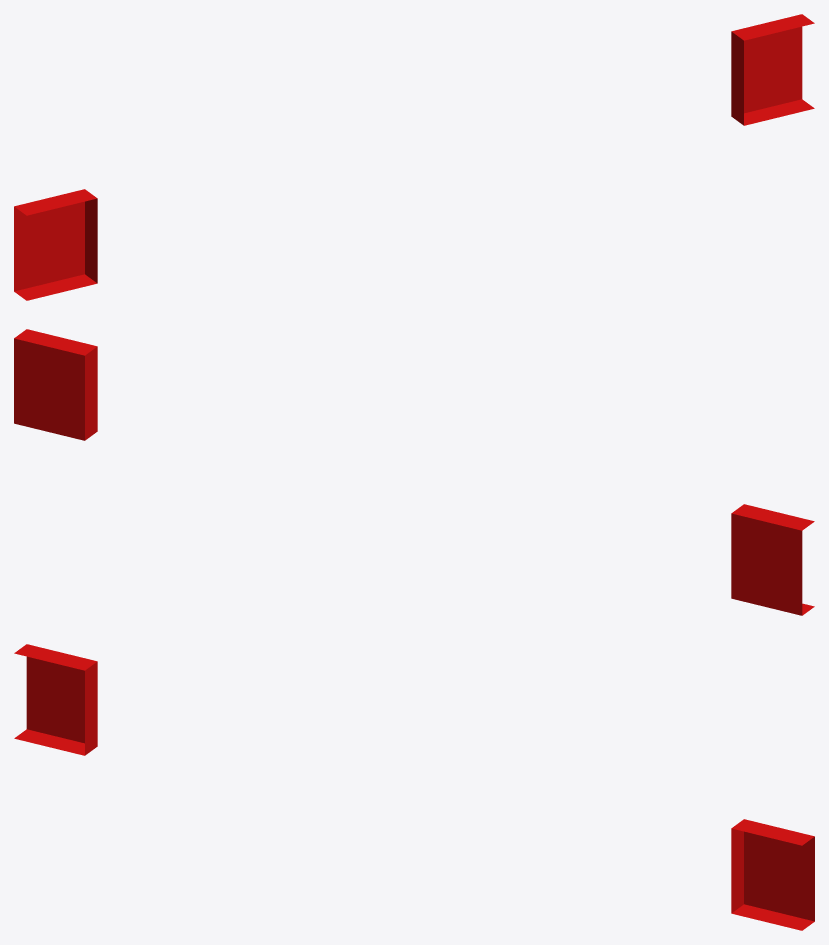
File: Car1Stop.fbx
3 views of the same model, one above another, from view 1: azimuth 30°, elevation 25°; view 2: azimuth 150°, elevation 25°; view 3: azimuth 330°, elevation 25° (orthographic).
Visible parts, largest first — view 1: Car1Stop; view 2: Car1Stop; view 3: Car1Stop.
Boxes of the visible parts, x1,y1,x2,y2 form: Car1Stop: (14, 14, 814, 300); Car1Stop: (14, 329, 814, 615); Car1Stop: (14, 644, 814, 930).
Bounding box in the file's own units: 1.71 × 0.1769 × 0.0481.
